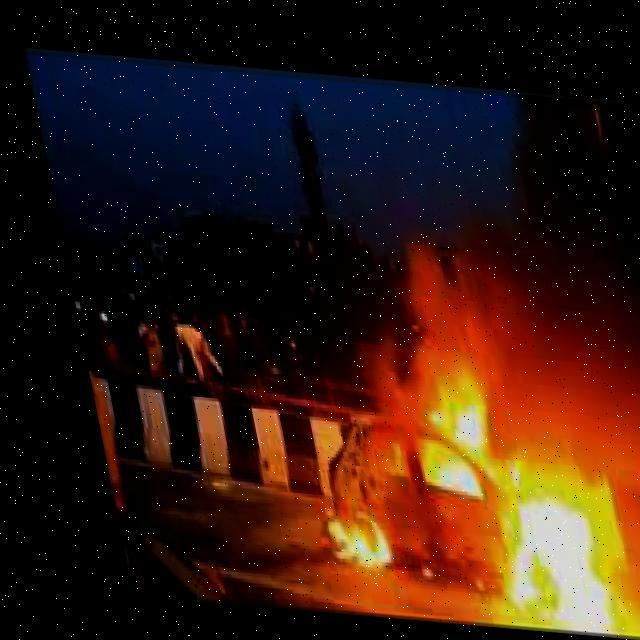Fire: (277, 349, 618, 621)
